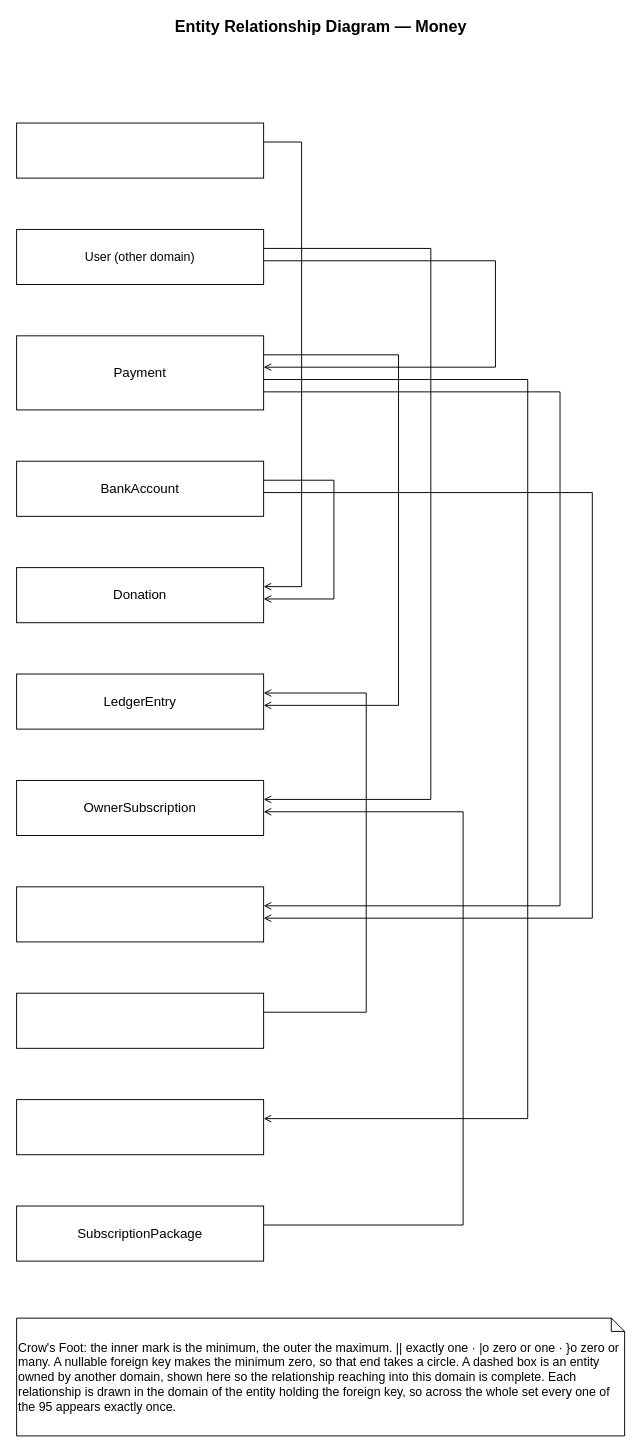
The diagram is 641 pixels wide and 1453 high, and some of its shapes have lost their labels. Here are the shapes that lost their labels. From the top down, the box of each, then its label:
(16, 122, 264, 178): Performance (other domain)
(16, 886, 264, 942): Settlement
(16, 992, 264, 1048): Account
(16, 1099, 264, 1155): RefundRequest
